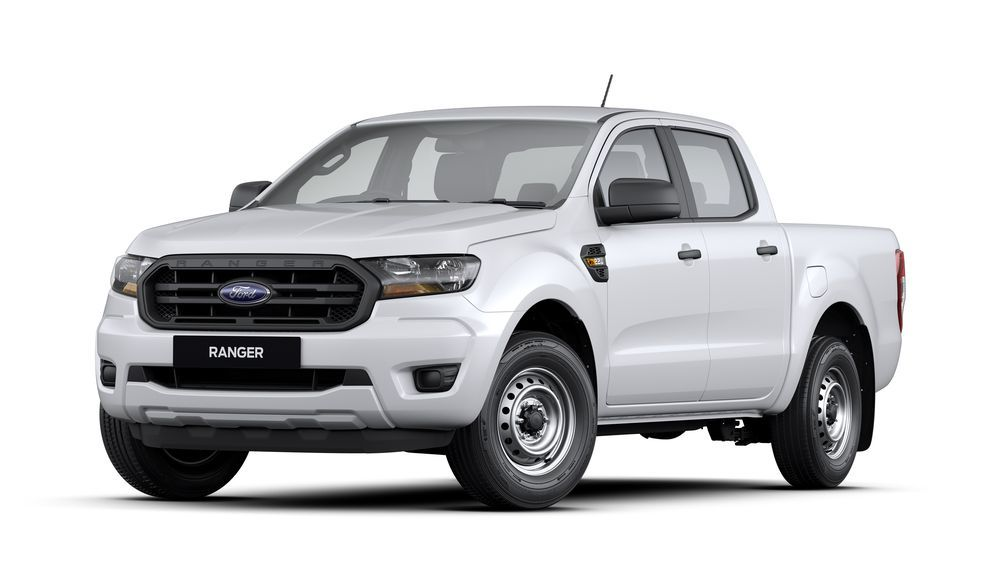pickup: (91, 101, 911, 513)
